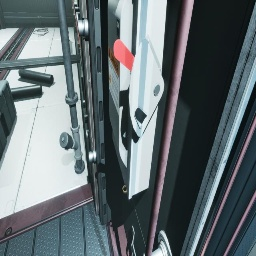SafetySwitchPanel ,: (108, 0, 170, 200)
